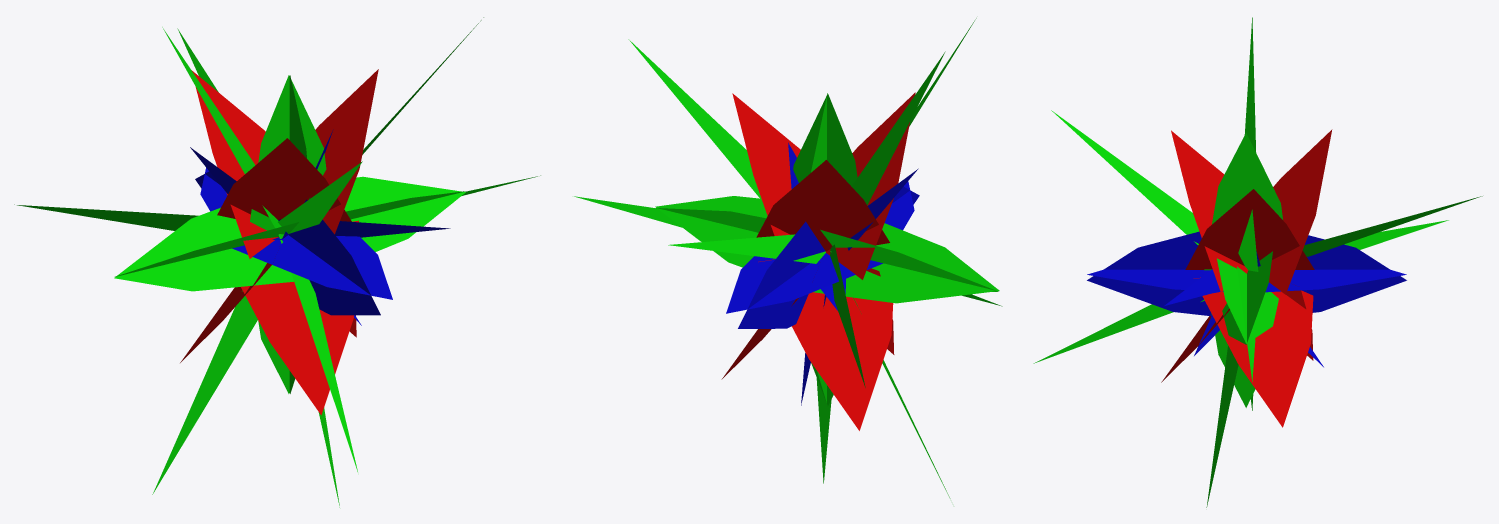
The model's file is SM_WildImpact_01.FBX.
The picture shows the model from 3 angles, left to right: view 1: azimuth 30°, elevation 25°; view 2: azimuth 150°, elevation 25°; view 3: azimuth 270°, elevation 25°; orthographic projection. The views are drawn at different scales.
Parts seen in each view (by area): view 1: SM_WildImpact_01; view 2: SM_WildImpact_01; view 3: SM_WildImpact_01.
Part boxes in pixels (x1,y1,x2,y2): SM_WildImpact_01: [14, 17, 540, 507]; SM_WildImpact_01: [574, 18, 1002, 498]; SM_WildImpact_01: [1033, 17, 1482, 507].
Size of the model in its own units: 159 by 167 by 176.
